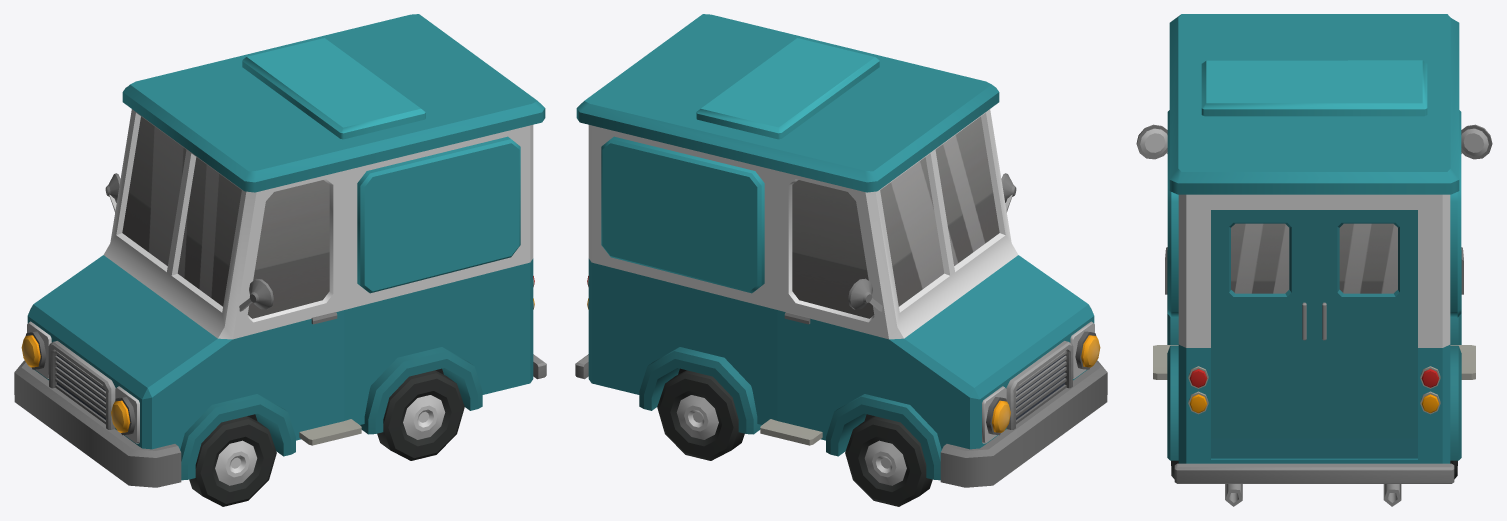
File: Car_14_F.fbx
3 renders of one model, left to right at view 1: azimuth 30°, elevation 25°; view 2: azimuth 150°, elevation 25°; view 3: azimuth 270°, elevation 25°, orthographic. The views are drawn at different scales.
Parts seen in each view (by area): view 1: Car_14_F, RL, FL; view 2: Car_14_F, RR, FR; view 3: Car_14_F.
Boxes of the visible parts, x1,y1,x2,y2 form: Car_14_F: (14,14,546,487); RL: (377,370,464,460); FL: (189,416,276,506); Car_14_F: (575,14,1107,487); RR: (657,370,744,460); FR: (845,416,932,506); Car_14_F: (1136,14,1492,506).
Bounding box in the file's own units: 275 × 210 × 180.
